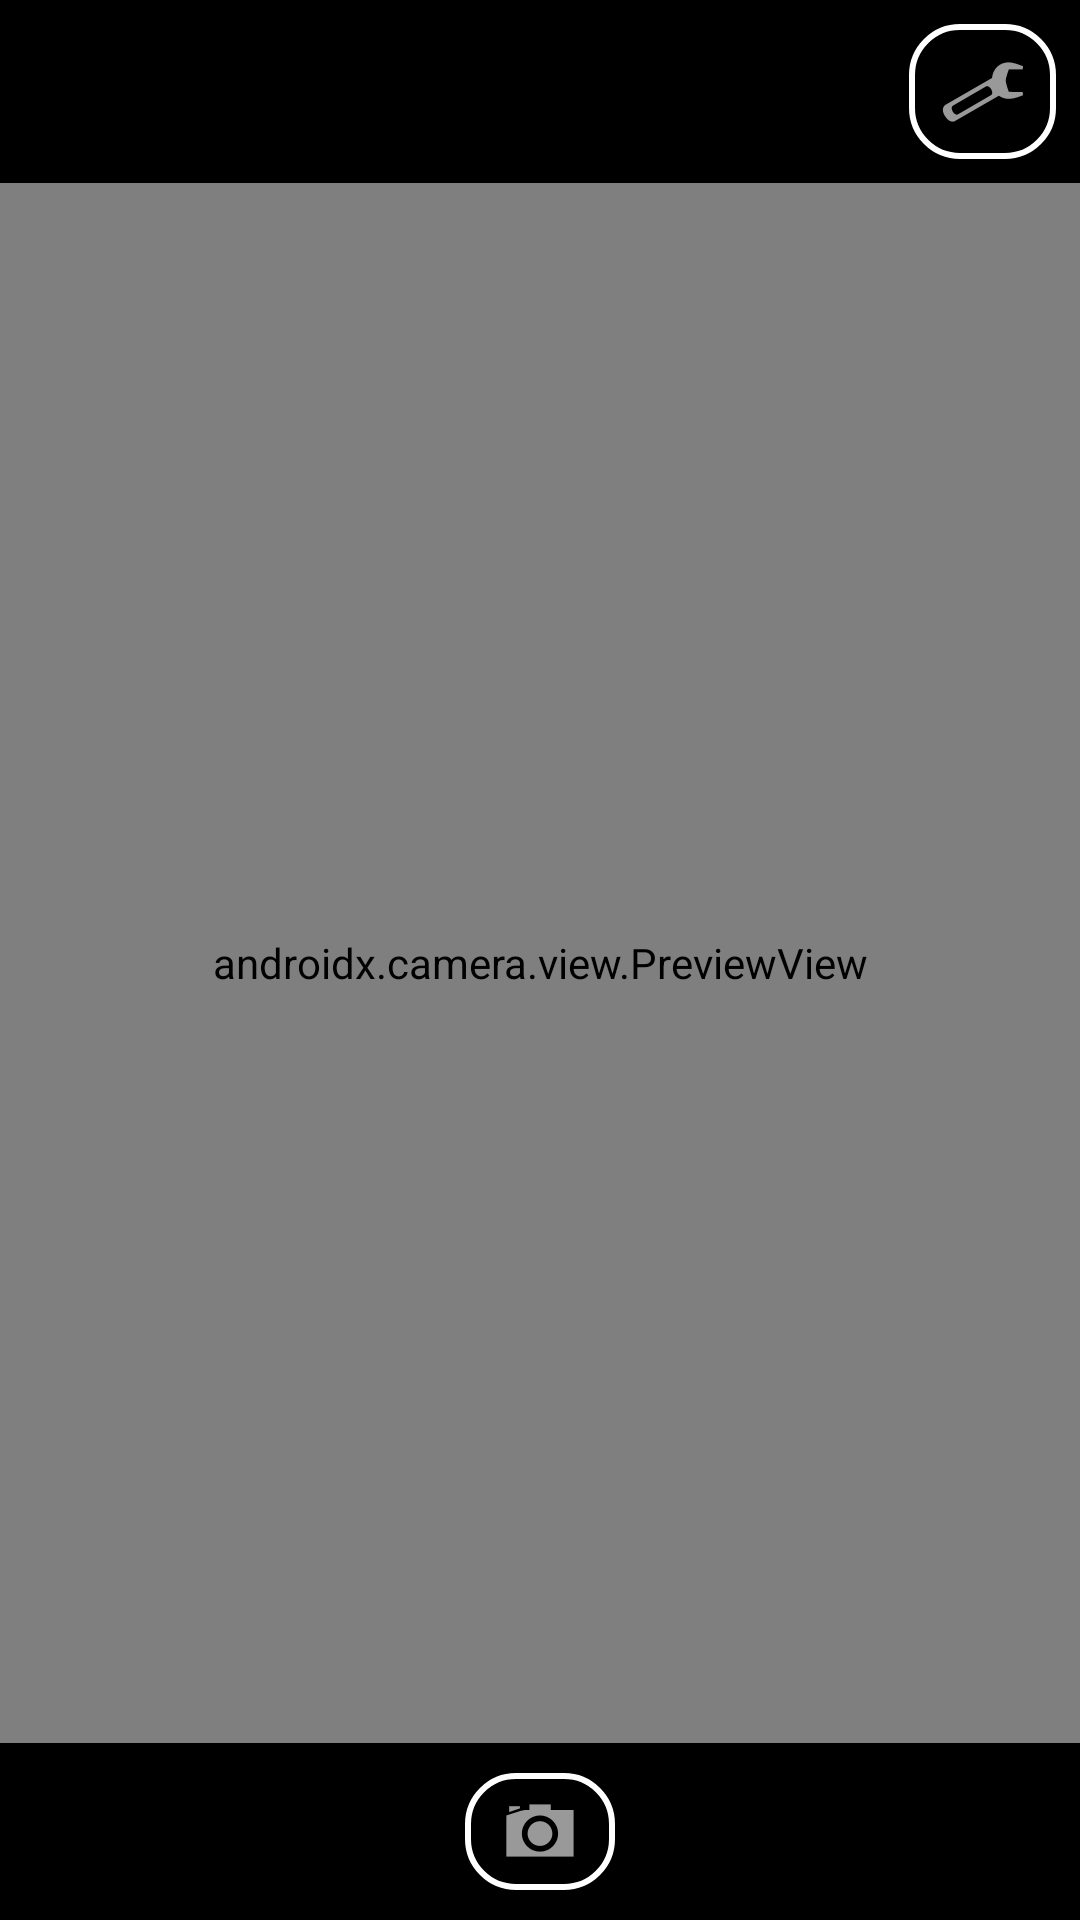

Named icons in this screenshot (1080x1920) and their centers, (x=x, y=y):
Capture: (x=540, y=1831)
Settings: (x=982, y=91)
